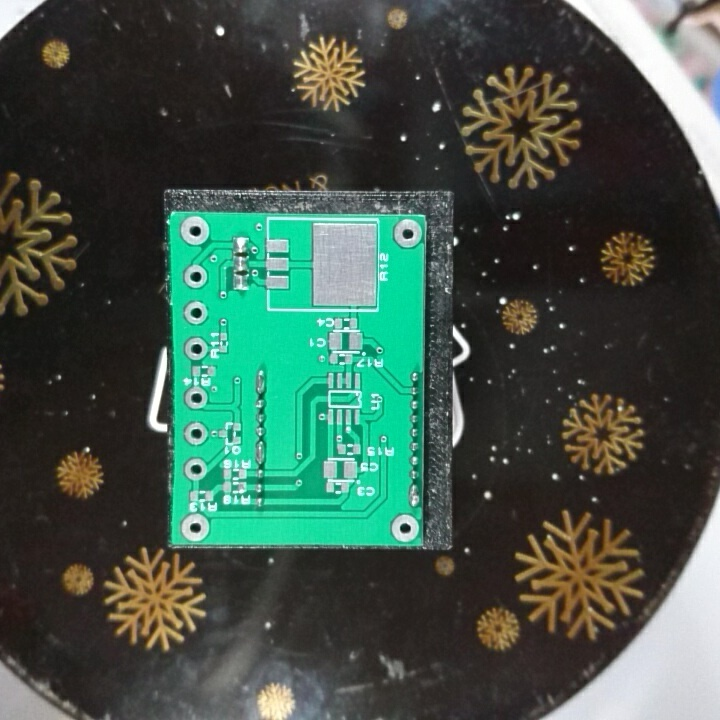F: (177, 214, 212, 246), (391, 218, 423, 250), (388, 513, 421, 544), (179, 512, 211, 543), (182, 262, 210, 291), (182, 419, 210, 448), (181, 300, 211, 327), (182, 383, 209, 411), (182, 455, 208, 482), (182, 335, 208, 361)
P: (254, 367, 270, 395), (254, 440, 269, 469), (407, 483, 422, 510)
